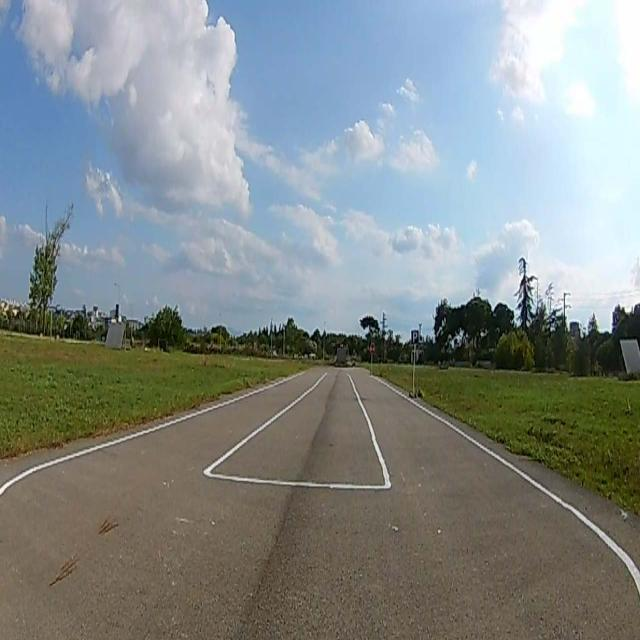park: (412, 329, 418, 344)
